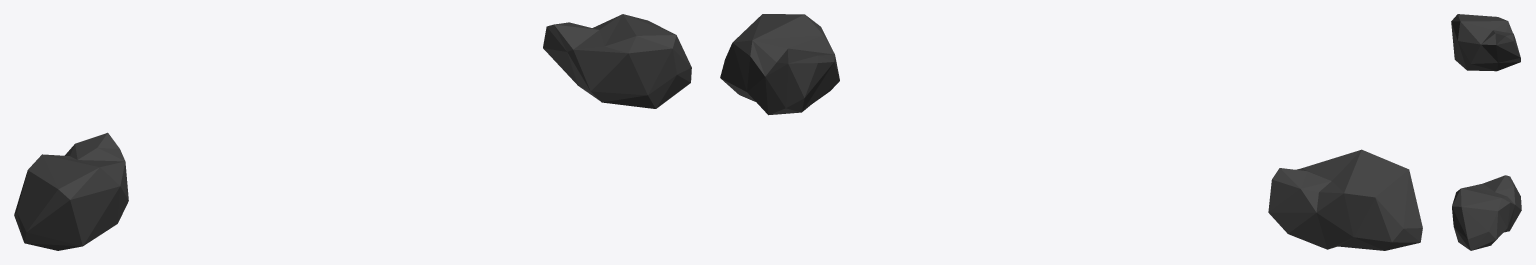
The model's file is Carpal_intermedioradial.glb.
3 renders of one model, left to right at view 1: azimuth 30°, elevation 25°; view 2: azimuth 150°, elevation 25°; view 3: azimuth 270°, elevation 25°, orthographic. The views are drawn at different scales.
Parts seen in each view (by area): view 1: Carpal_intermedioradial; view 2: Carpal_intermedioradial; view 3: Carpal_intermedioradial.
Part boxes in pixels (x1=…): Carpal_intermedioradial: x1=14, y1=14, x2=691, y2=250; Carpal_intermedioradial: x1=720, y1=14, x2=1422, y2=250; Carpal_intermedioradial: x1=1451, y1=14, x2=1521, y2=250.
Bounding box in the file's own units: 0.00342 × 0.000375 × 0.000493.
1 material, 1 textured.
